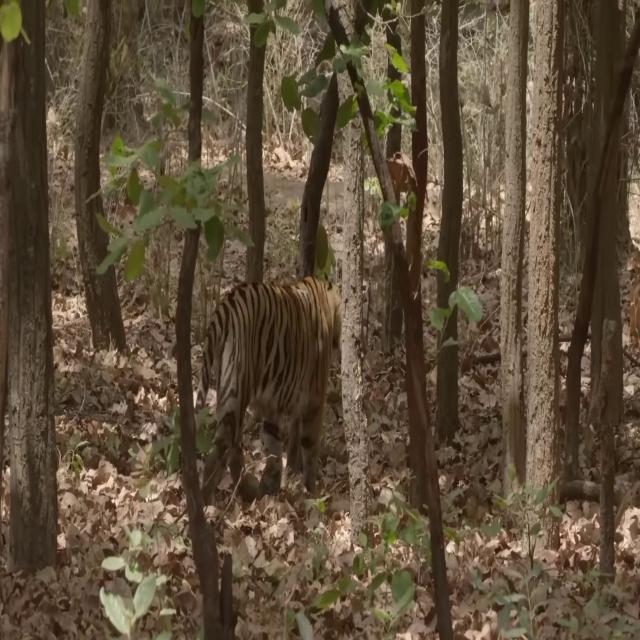tiger: (193, 277, 340, 492)
